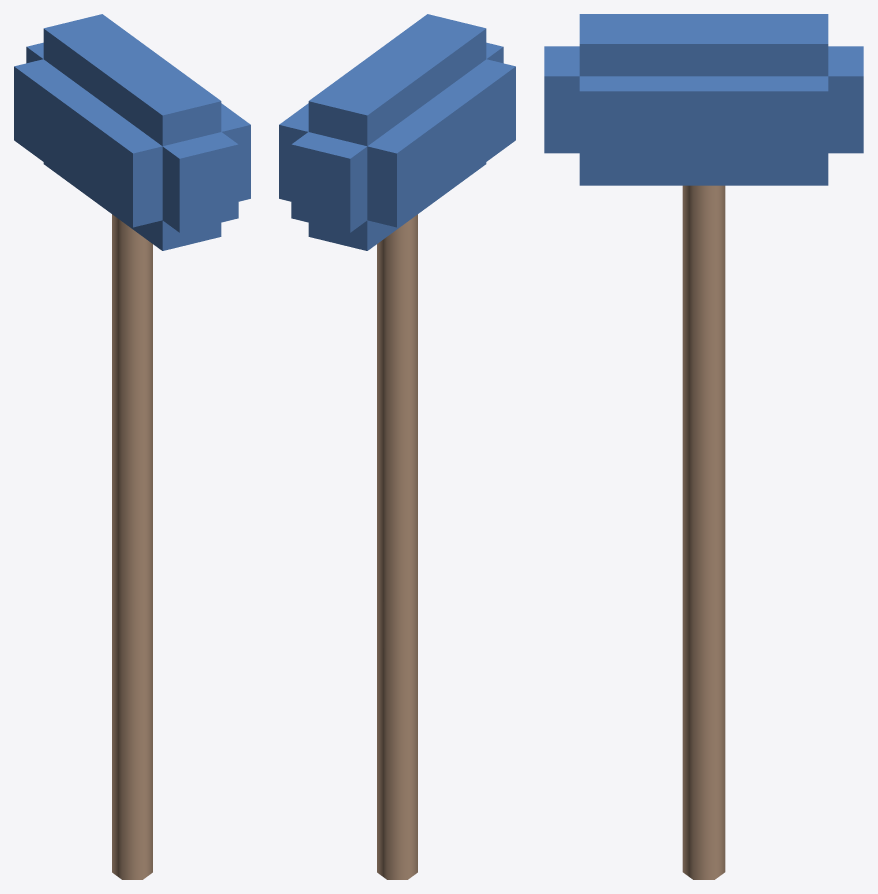
The model's file is mailbox.glb.
3 renders of one model, left to right at view 1: azimuth 30°, elevation 25°; view 2: azimuth 150°, elevation 25°; view 3: azimuth 270°, elevation 25°, orthographic. The views are drawn at different scales.
Parts seen in each view (by area): view 1: mailbox; view 2: mailbox; view 3: mailbox.
Boxes of the visible parts, bbox=[...] form: mailbox: bbox=[14, 14, 250, 879]; mailbox: bbox=[279, 14, 515, 879]; mailbox: bbox=[544, 14, 863, 879].
Size of the model in its own units: 0.2 by 1.31 by 0.45.
